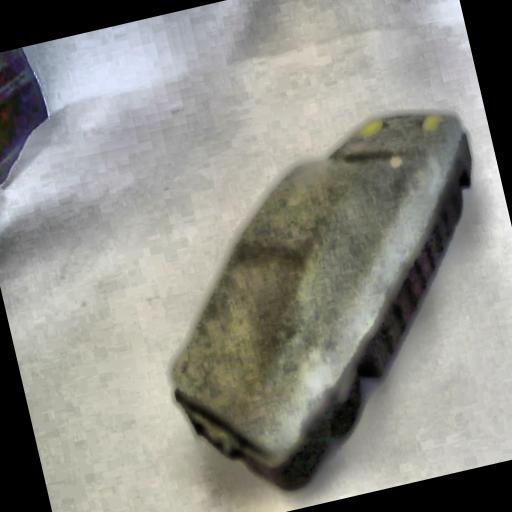normal_car: (119, 98, 512, 512)
